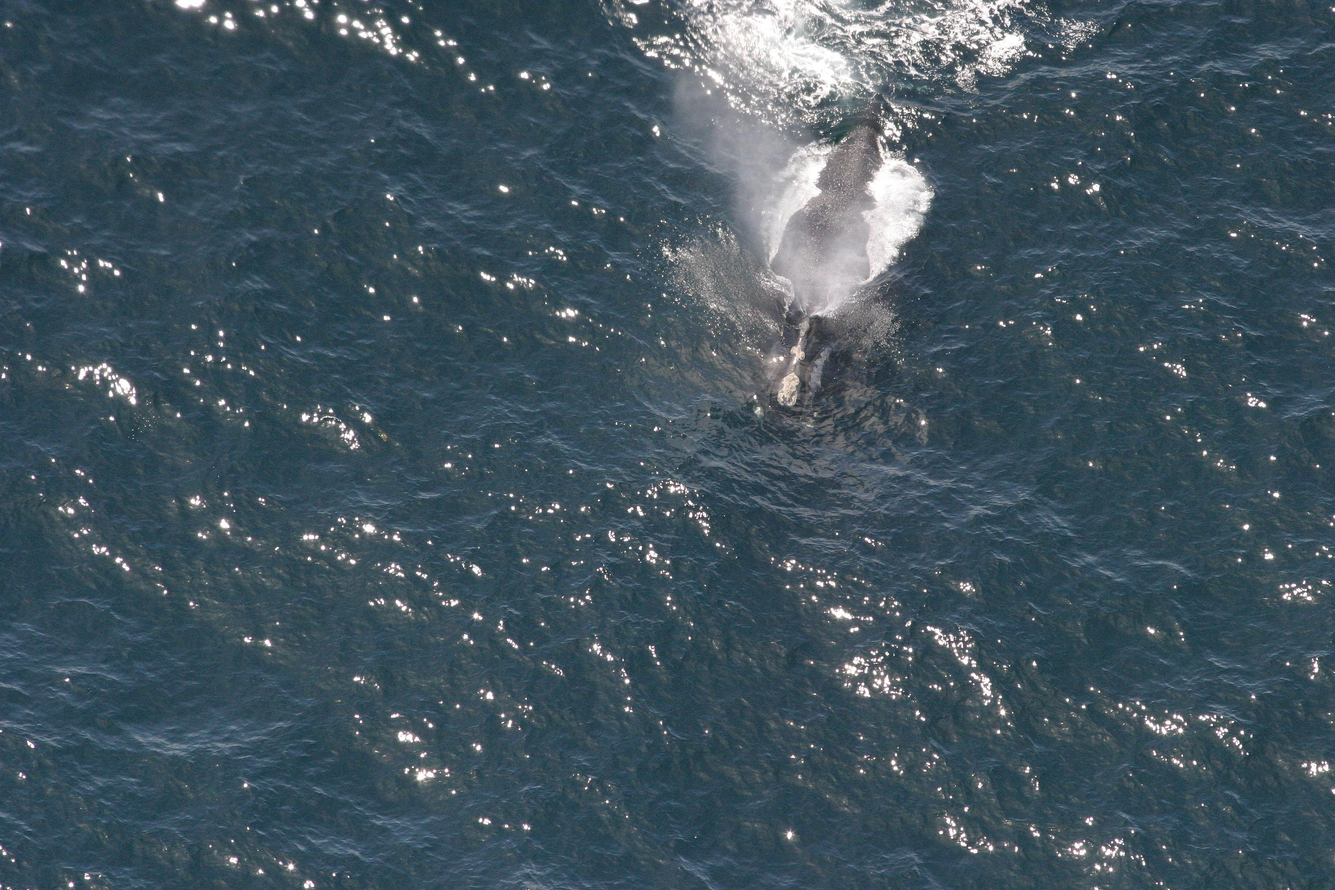whale: (727, 36, 954, 447)
